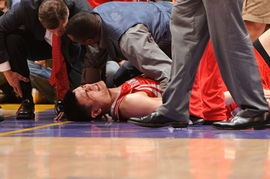falling: (61, 50, 267, 127)
